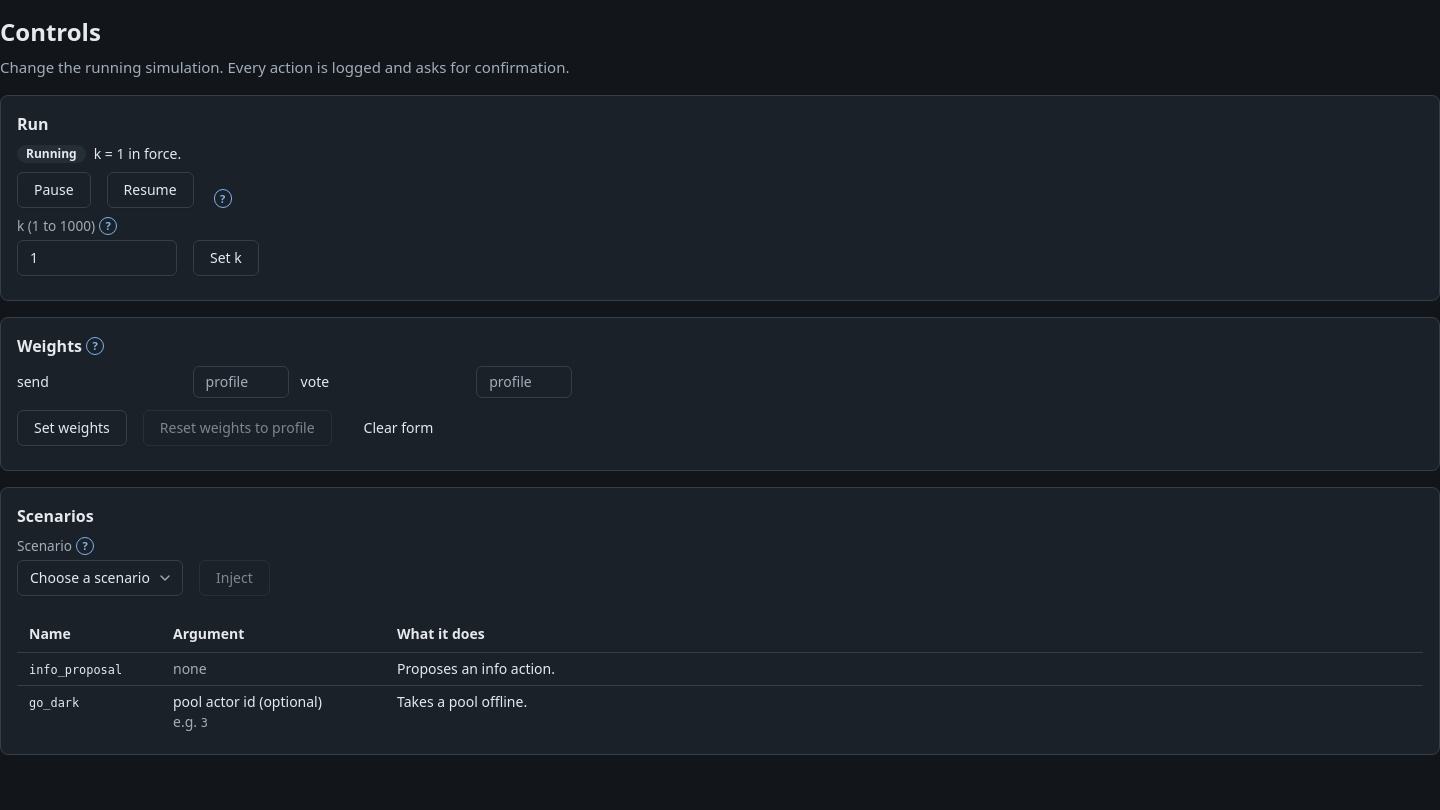
Test case: controls confirm dialog › asks before sending, and Cancel sends nothing
Click the button "Pause" at (54, 190), box left=17, top=172, right=91, bottom=208
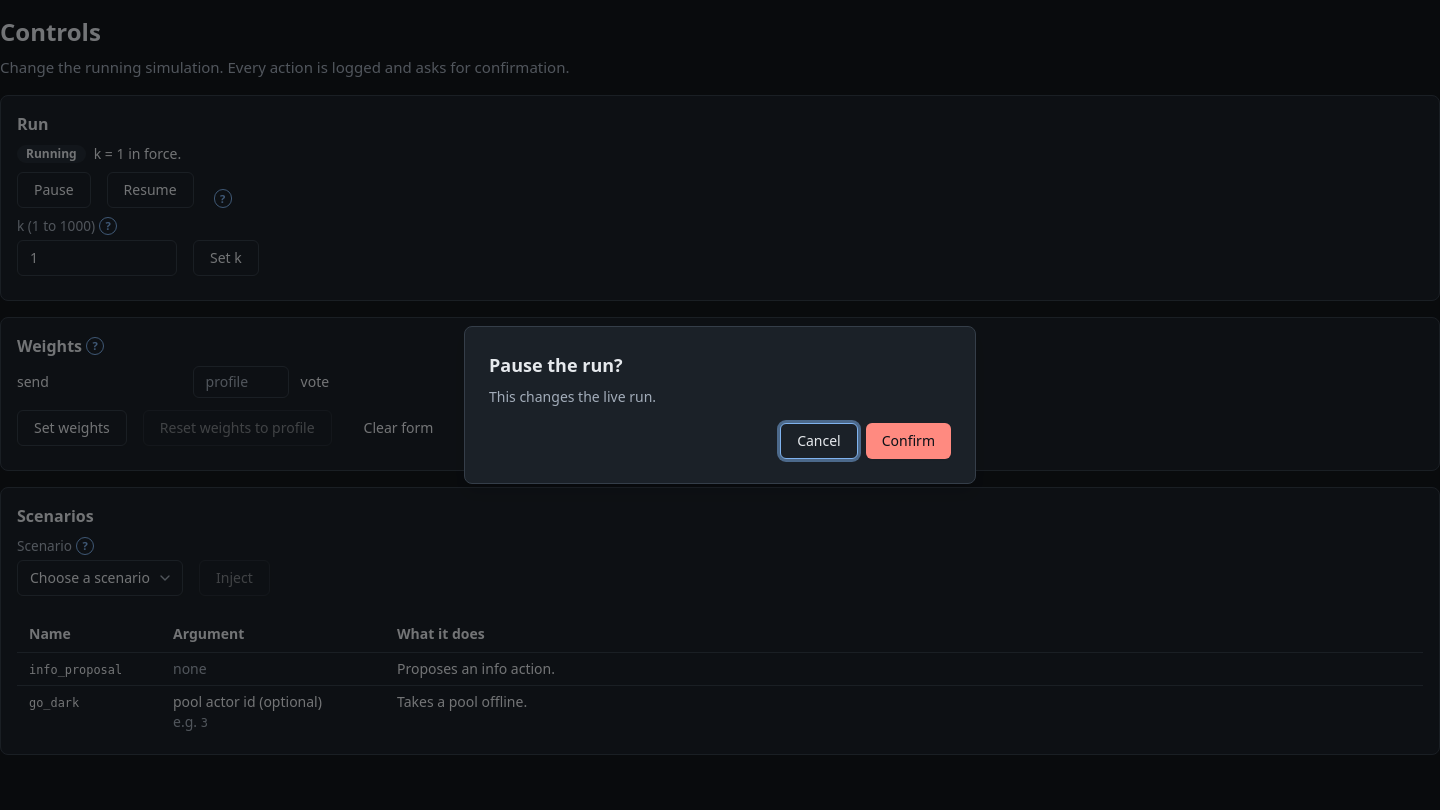
Check: the dialog shows "Pause the run?", box left=489, top=353, right=623, bottom=377
Click the button "Cancel" at (819, 441), box left=780, top=423, right=858, bottom=459
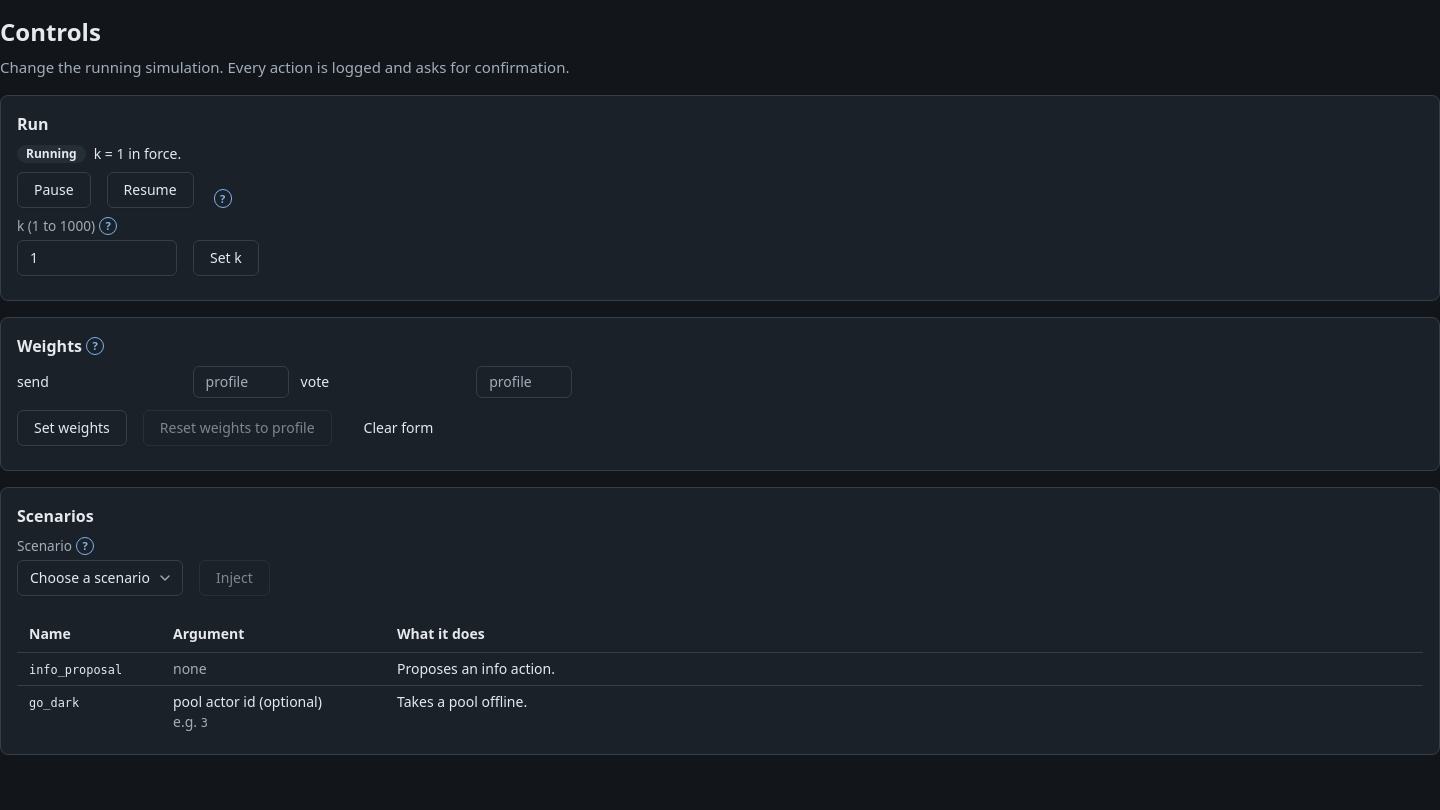
Check: the dialog is gone
Click the button "Pause" at (54, 190), box left=17, top=172, right=91, bottom=208
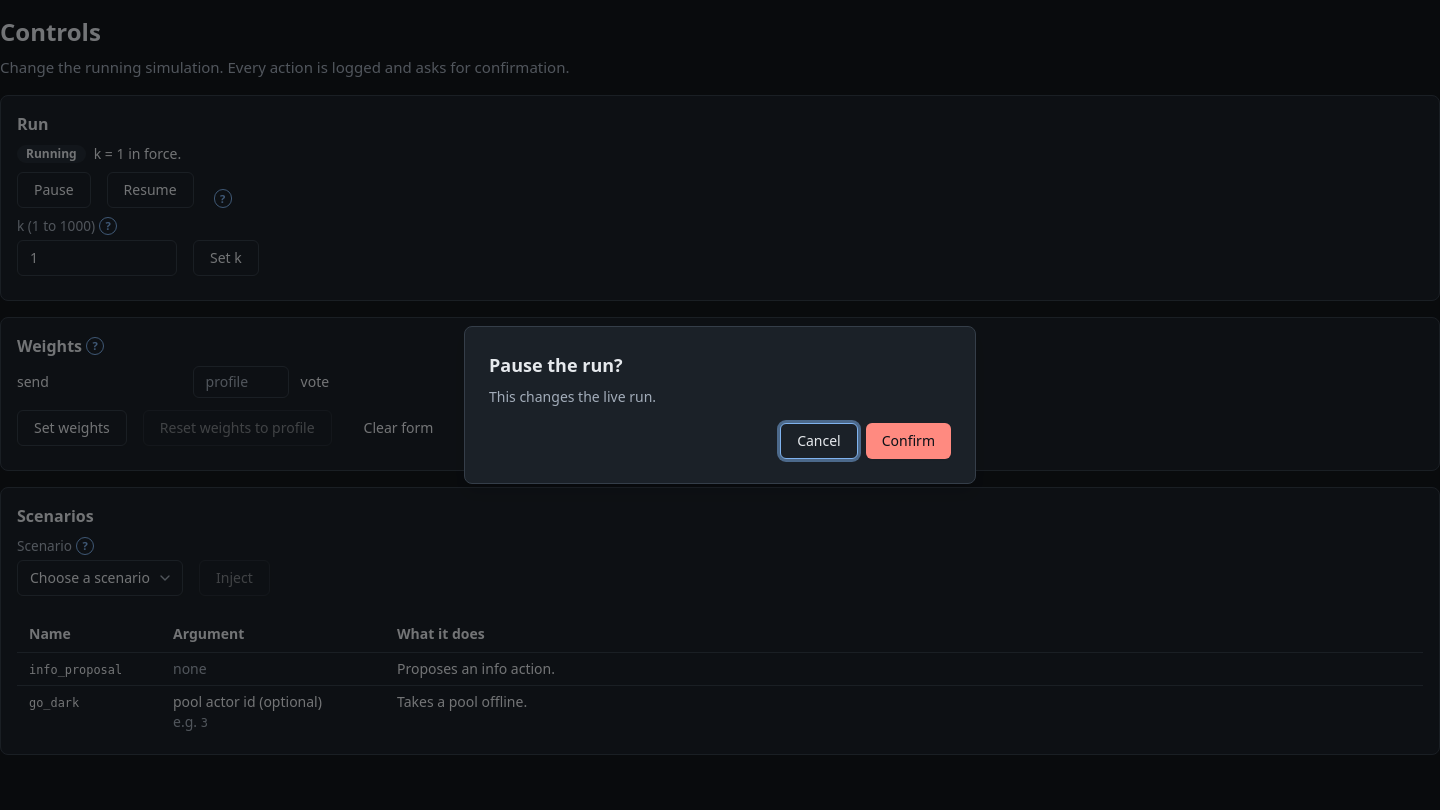
Click the button "Confirm" at (908, 441), box left=866, top=423, right=951, bottom=459
(page scrolled)
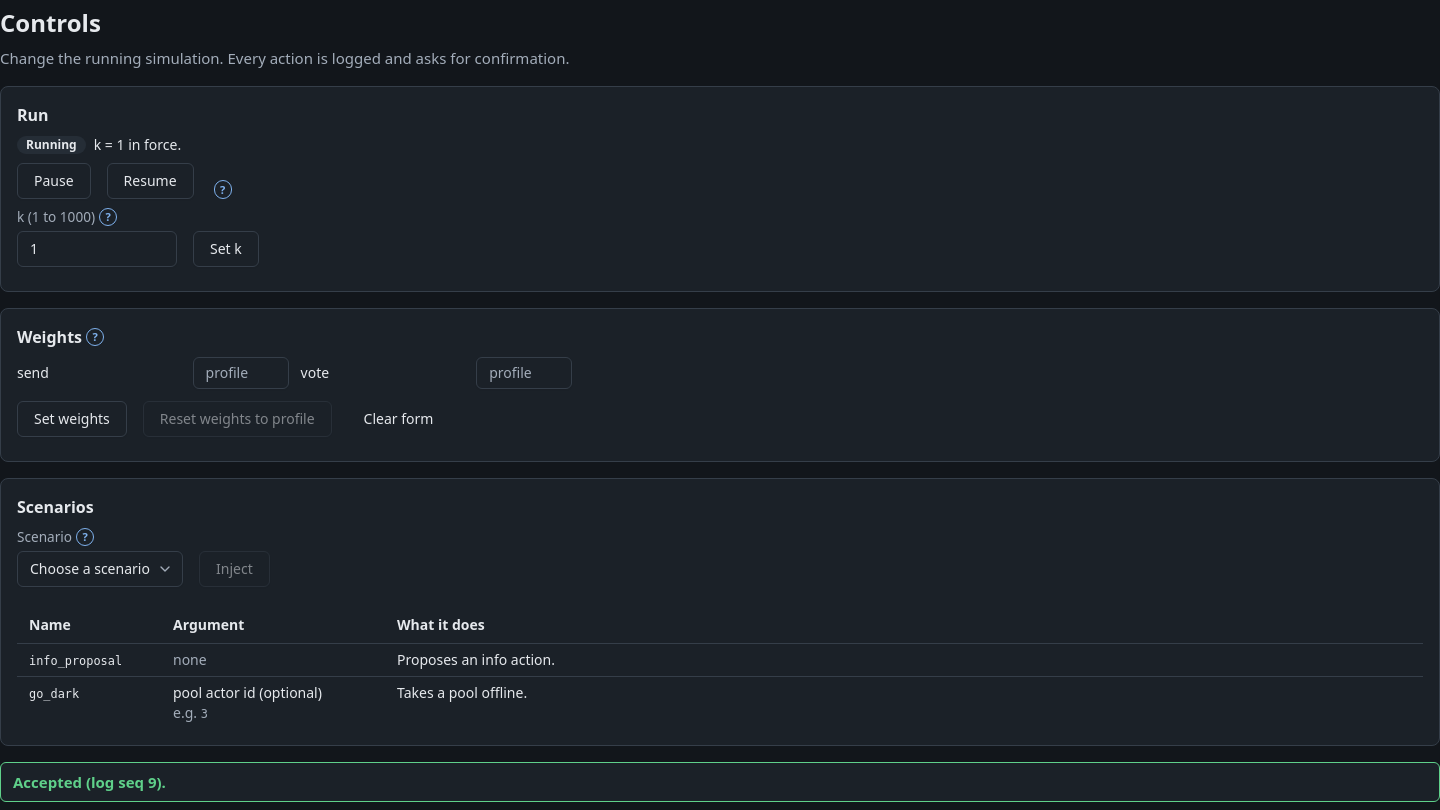
Check: the message reads "Accepted (log seq 9).", box left=13, top=772, right=166, bottom=792
Check: the dialog is gone
